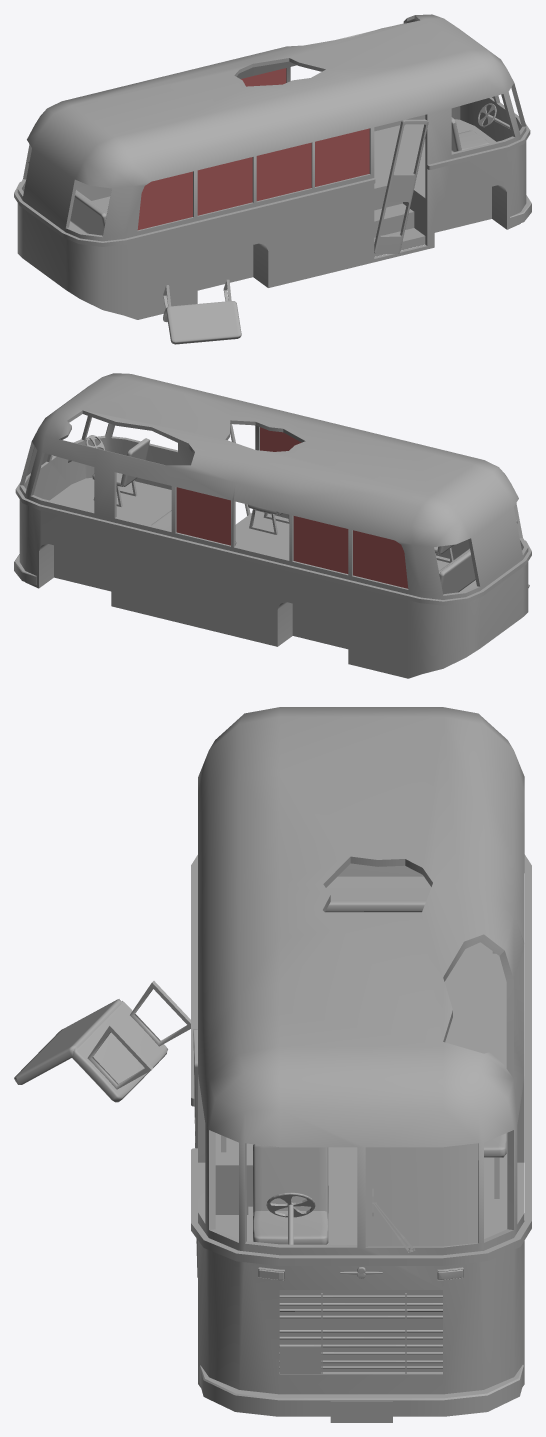
The model's file is bus.fbx.
The picture shows the model from 3 angles, top to bottom: view 1: azimuth 30°, elevation 25°; view 2: azimuth 150°, elevation 25°; view 3: azimuth 270°, elevation 25°; orthographic projection. The views are drawn at different scales.
Parts seen in each view (by area): view 1: Bus; view 2: Bus; view 3: Bus.
Boxes of the visible parts, box(x1,y1,x2,y2) form: Bus: box(14, 14, 531, 344); Bus: box(14, 373, 531, 678); Bus: box(14, 707, 531, 1422).
Bounding box in the file's own units: 765 × 266 × 387.
